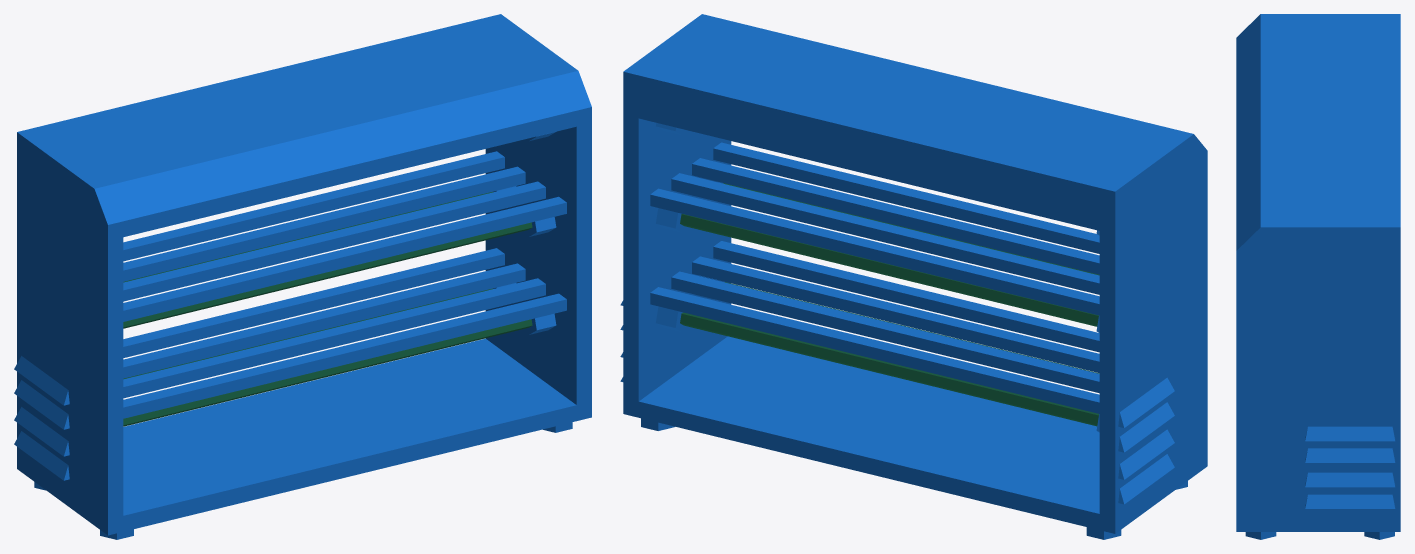
Rendered from T_heating_station.fbx.
The picture shows the model from 3 angles, left to right: view 1: azimuth 30°, elevation 25°; view 2: azimuth 150°, elevation 25°; view 3: azimuth 270°, elevation 25°; orthographic projection. The views are drawn at different scales.
Parts seen in each view (by area): view 1: heating_station; view 2: heating_station; view 3: heating_station.
Part boxes in pixels (x1,y1,x2,y2): heating_station: (14,14,591,539); heating_station: (620,14,1207,539); heating_station: (1236,14,1400,539).
Size of the model in its own units: 154 by 103 by 48.87.
